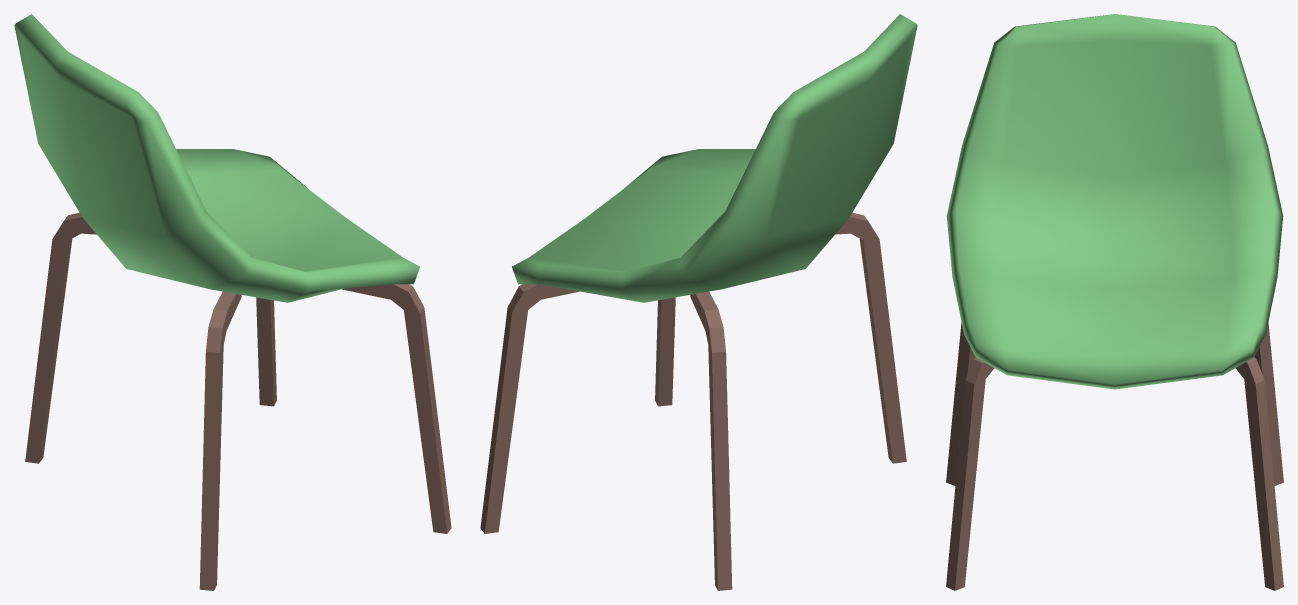
The picture shows the model from 3 angles, left to right: view 1: azimuth 30°, elevation 25°; view 2: azimuth 150°, elevation 25°; view 3: azimuth 270°, elevation 25°; orthographic projection. The views are drawn at different scales.
Parts seen in each view (by area): view 1: low_poly_interior.066; view 2: low_poly_interior.066; view 3: low_poly_interior.066.
Part boxes in pixels (<box>): low_poly_interior.066: <box>14,14,451,590</box>; low_poly_interior.066: <box>480,14,917,590</box>; low_poly_interior.066: <box>946,14,1283,590</box>.
Bounding box in the file's own units: 53.38 × 79.19 × 54.59.
Materials: 1 (1 with a texture image).
